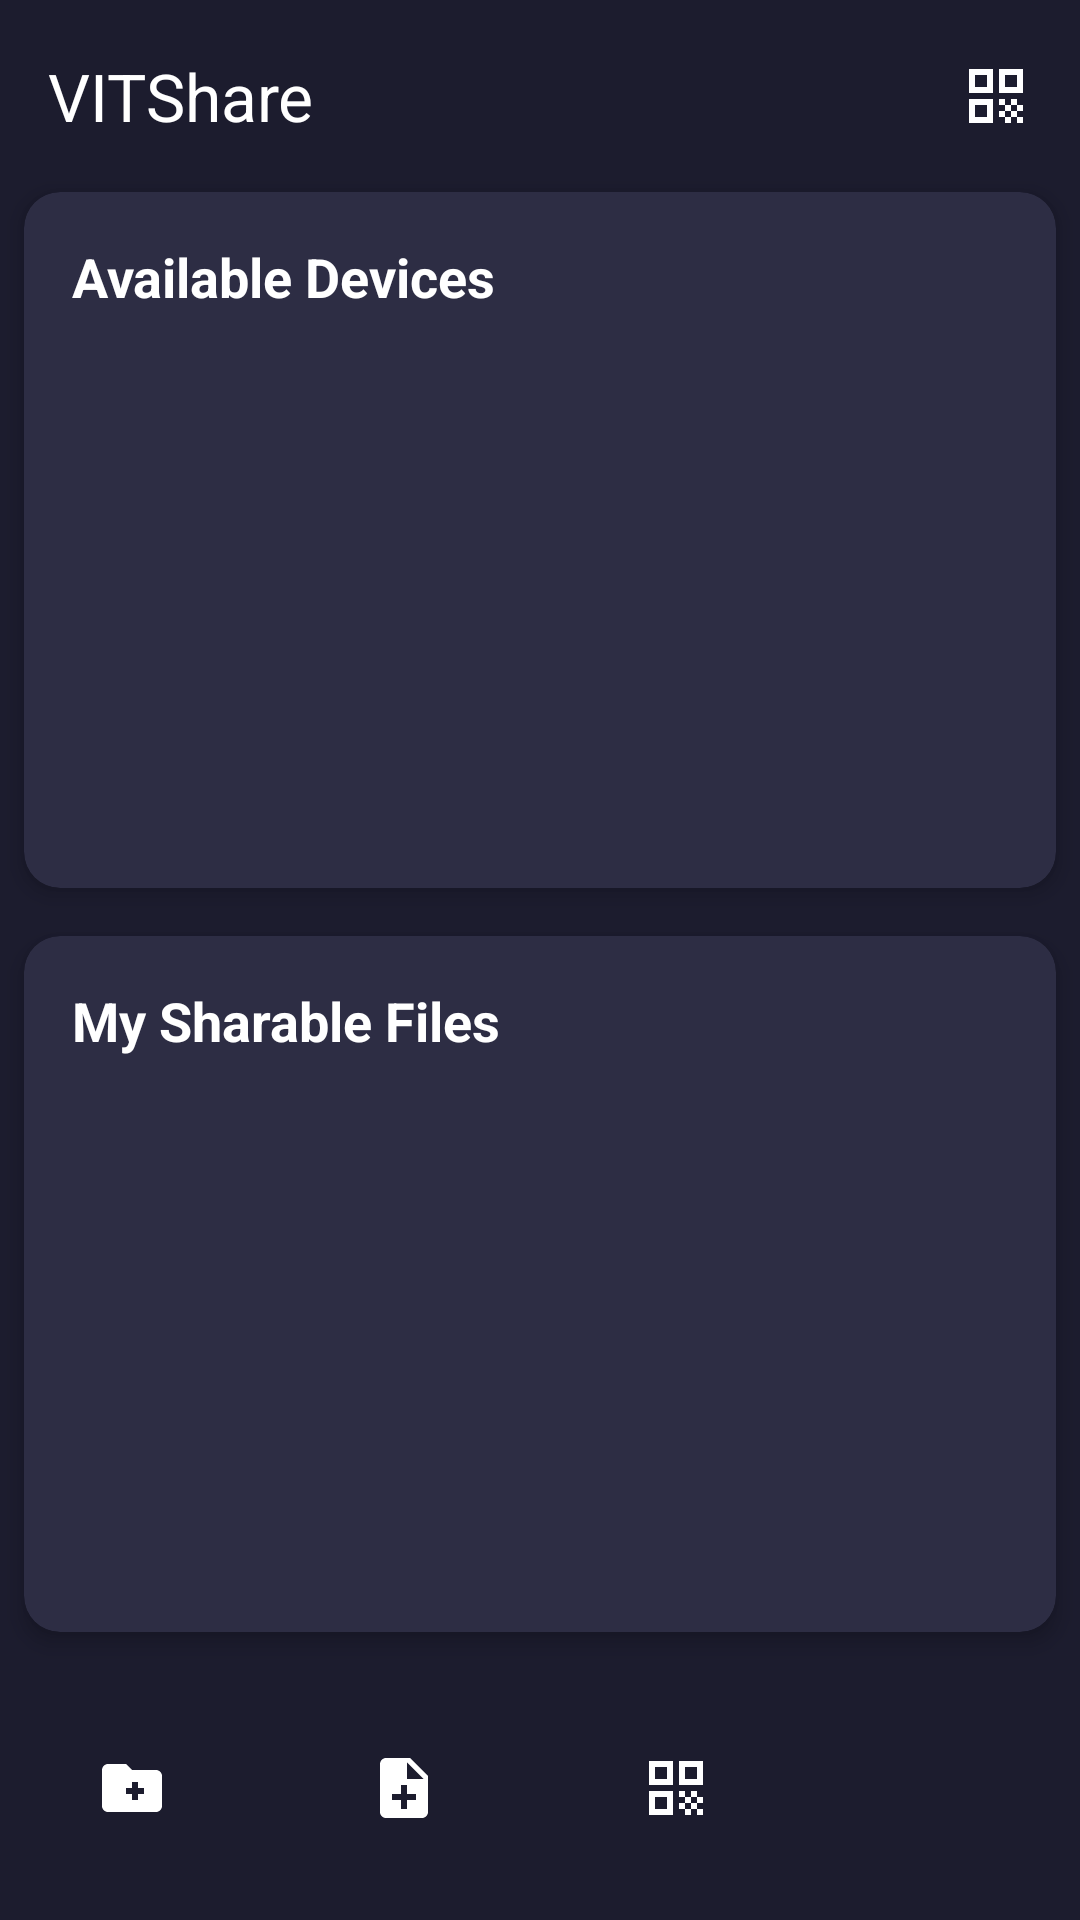

Point at icon controls on the screen. Image size 1080×1920, points as (x,y).
Add File: (404,1788)
Add Folder: (132,1788)
